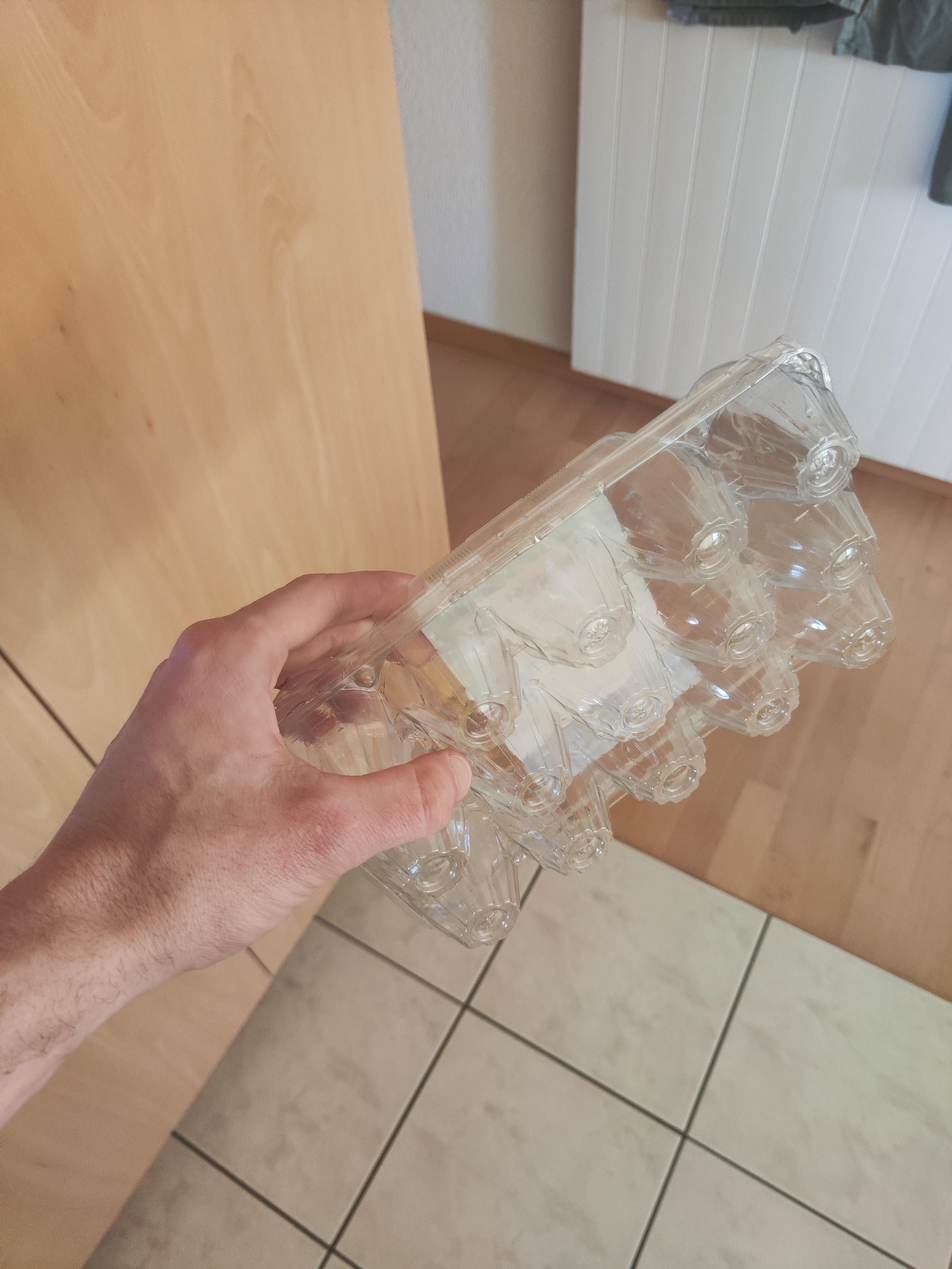Plastic: (274, 339, 900, 951)
